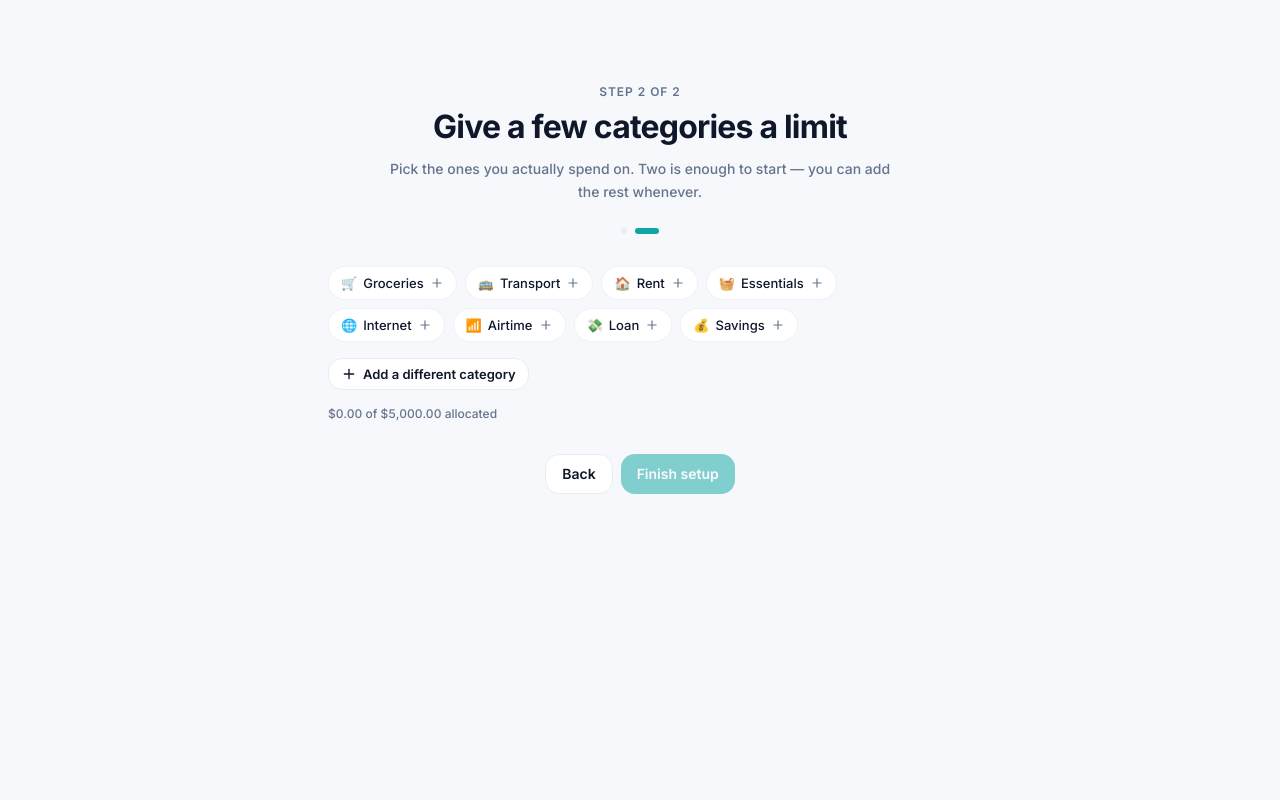
Test case: guided setup: budgets step › blocks Finish under two funded categories, with inline validation
Click the button "🛒 Groceries" at (392, 282), box [328,266,457,300]
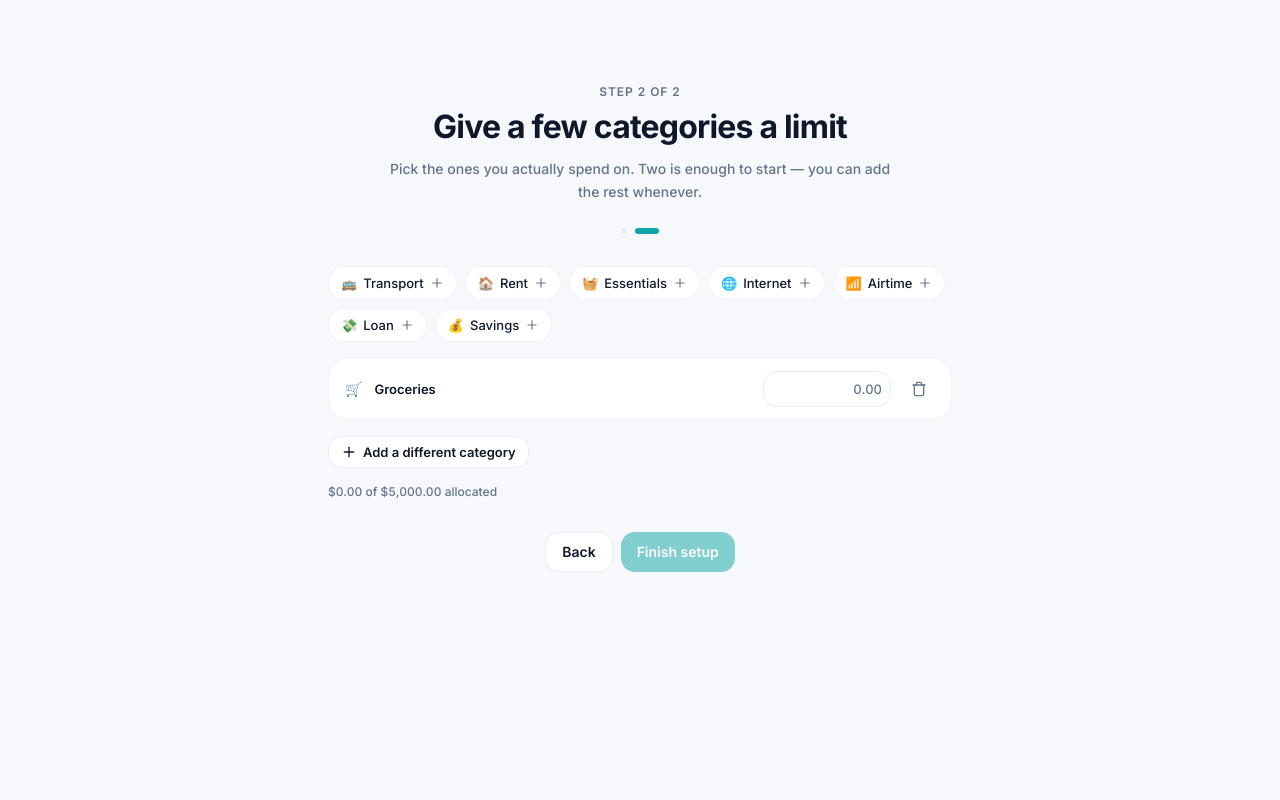
Type "1000" into the field with placeholder "0.00" at (827, 388), box [763,370,891,406]
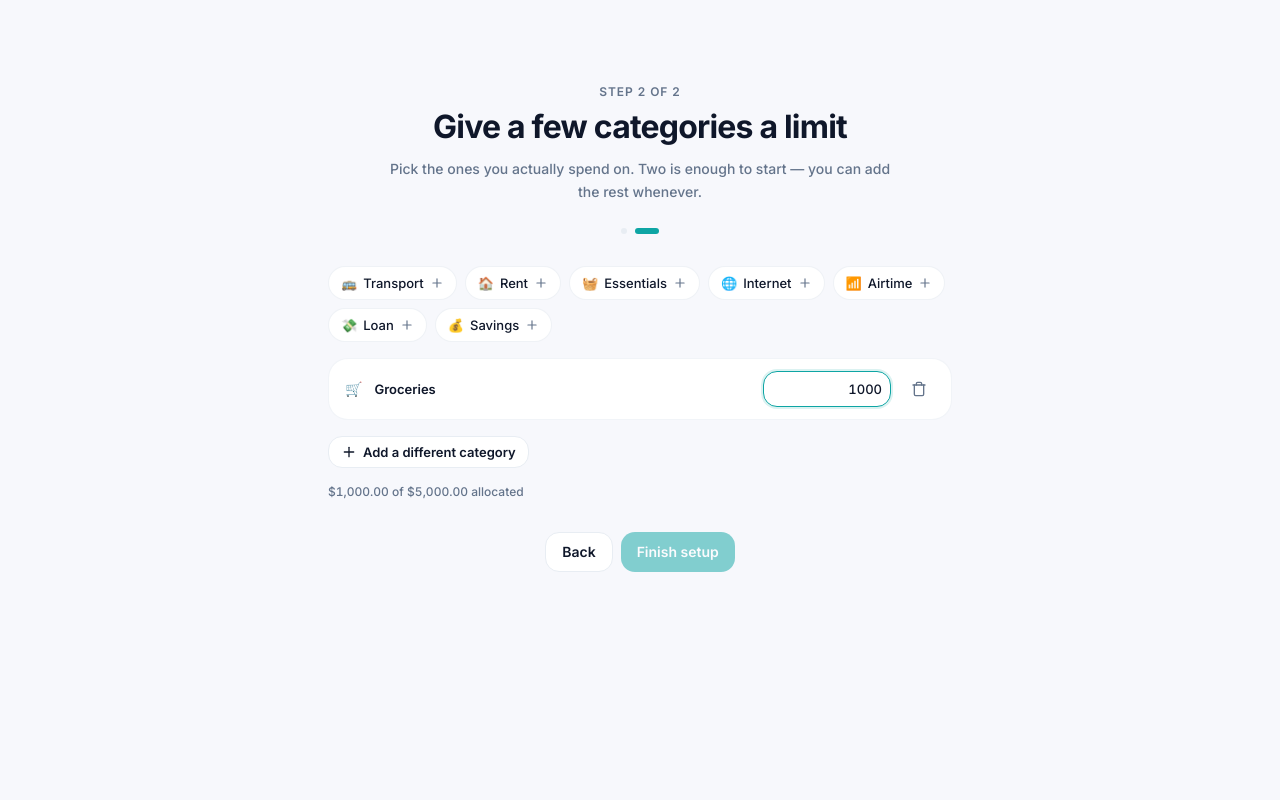
Click the button "Finish setup" at (678, 552), box [621,532,735,572]
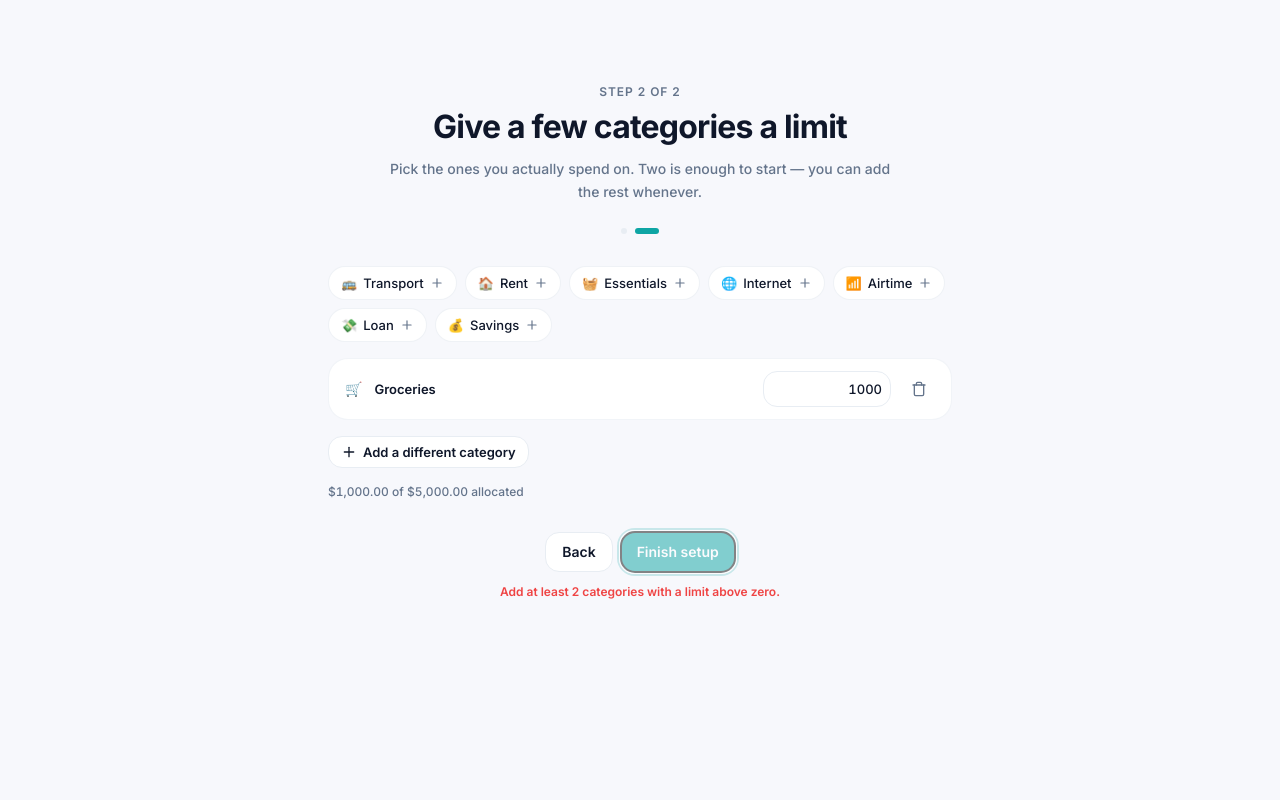
expect the message shows "at least 2 categories": met, box [500,584,780,600]
